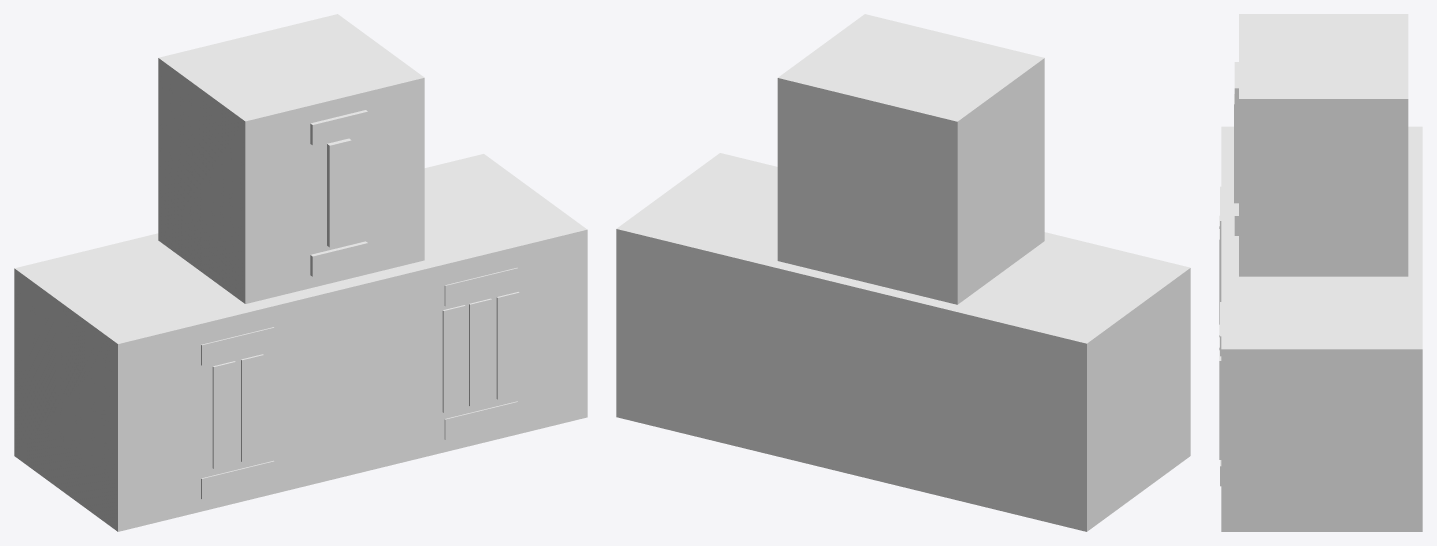
File: pedestal.fbx
3 views of the same model, side by side, from view 1: azimuth 30°, elevation 25°; view 2: azimuth 150°, elevation 25°; view 3: azimuth 270°, elevation 25° (orthographic). The views are drawn at different scales.
Parts seen in each view (by area): view 1: polySurface460; view 2: polySurface460; view 3: polySurface460.
Part boxes in pixels (x1=…): polySurface460: x1=14, y1=14, x2=587, y2=531; polySurface460: x1=616, y1=14, x2=1190, y2=531; polySurface460: x1=1219, y1=14, x2=1422, y2=531.
Size of the model in its own units: 0.9371 by 0.7067 by 0.362.
